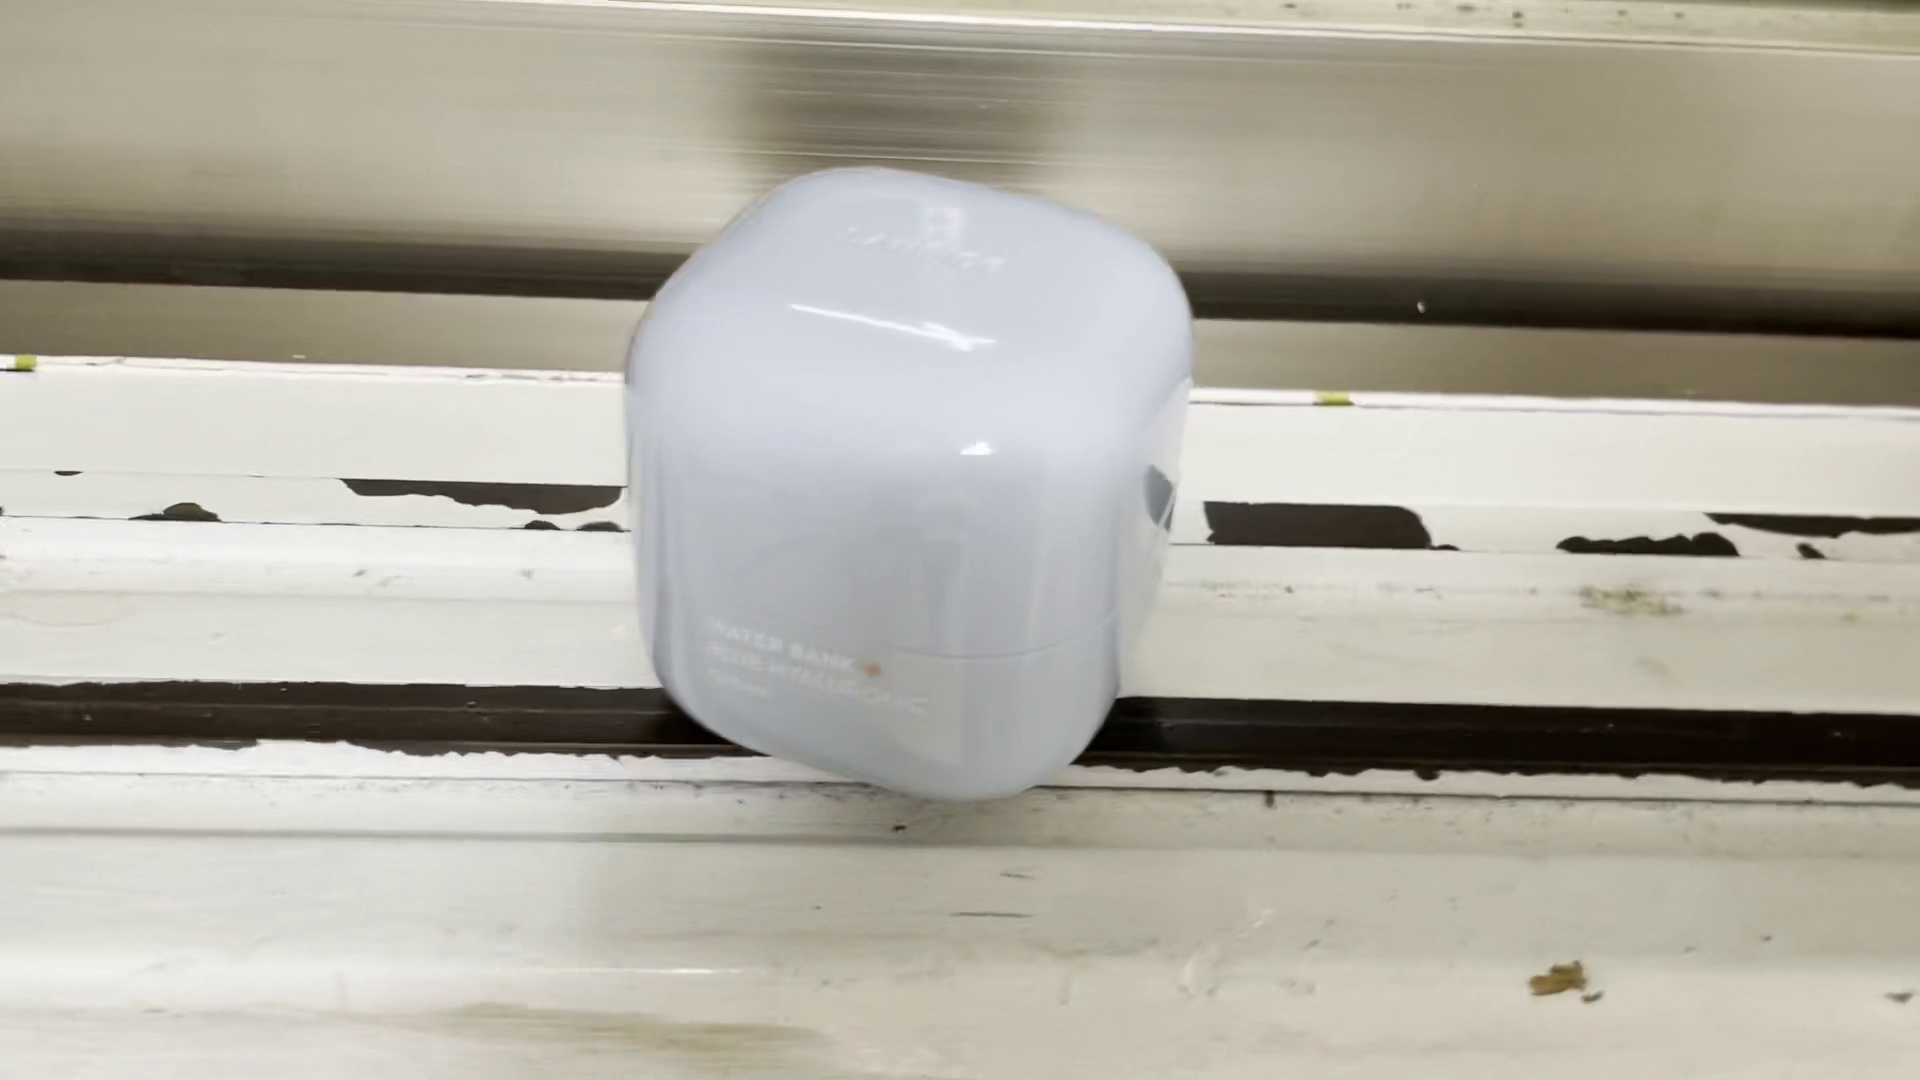cream: (620, 167, 1189, 803)
